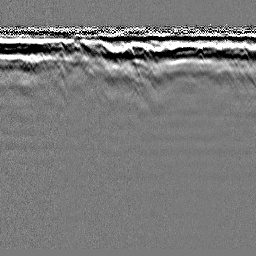cavity: (119, 42, 139, 74)
